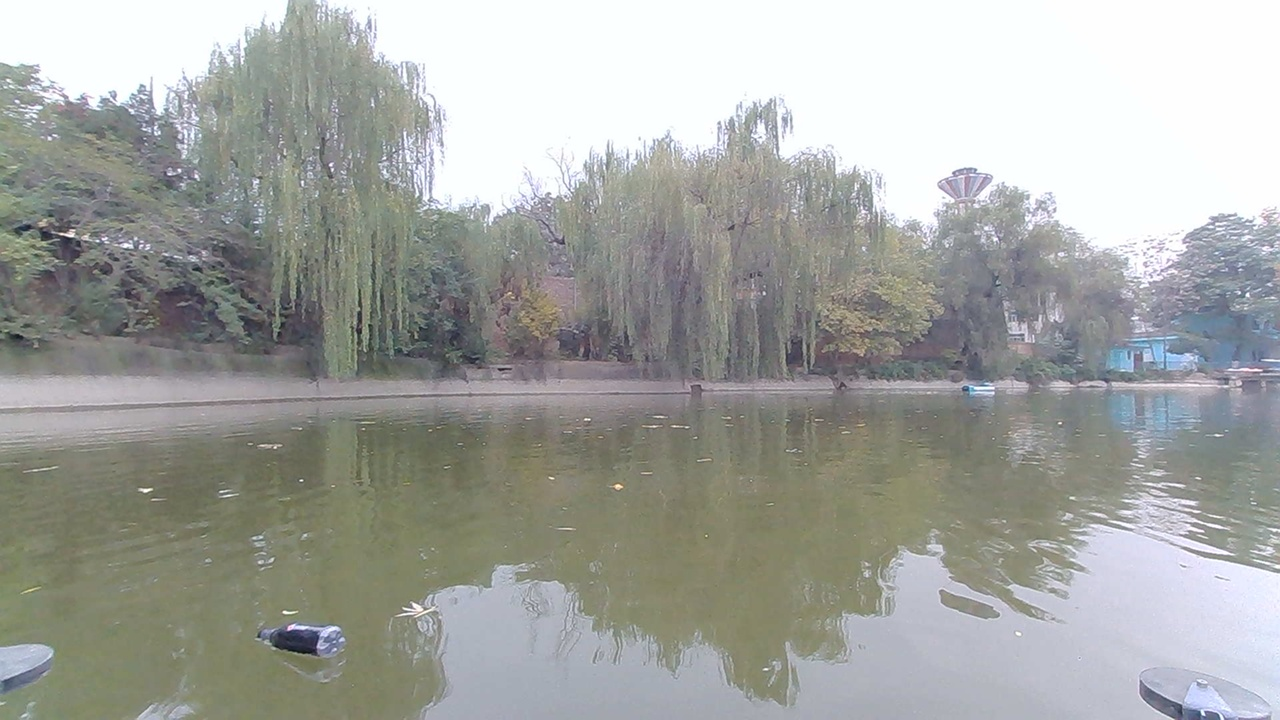bottle: (281, 625, 335, 659)
